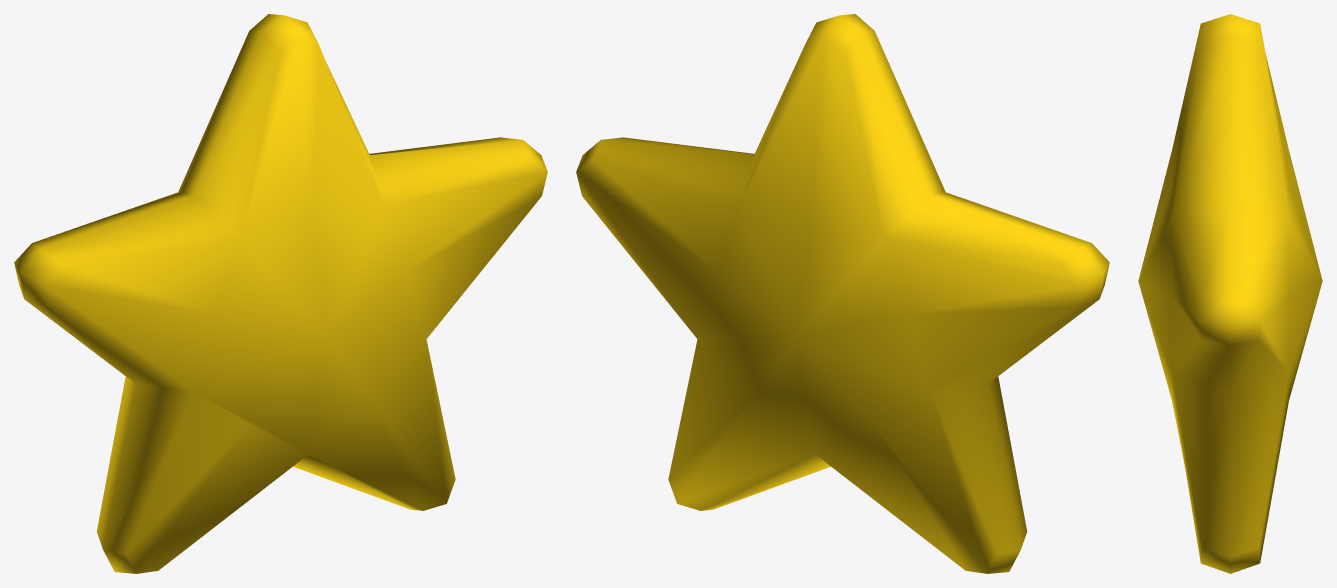
The model's file is Star.fbx.
3 views of the same model, side by side, from view 1: azimuth 30°, elevation 25°; view 2: azimuth 150°, elevation 25°; view 3: azimuth 270°, elevation 25° (orthographic). The views are drawn at different scales.
Parts seen in each view (by area): view 1: Sphere; view 2: Sphere; view 3: Sphere.
Part boxes in pixels (bbox=[...]): Sphere: bbox=[14, 14, 547, 573]; Sphere: bbox=[576, 14, 1109, 573]; Sphere: bbox=[1138, 14, 1322, 573].
Size of the model in its own units: 248 by 239 by 80.92.
Materials: 1 (1 with a texture image).
